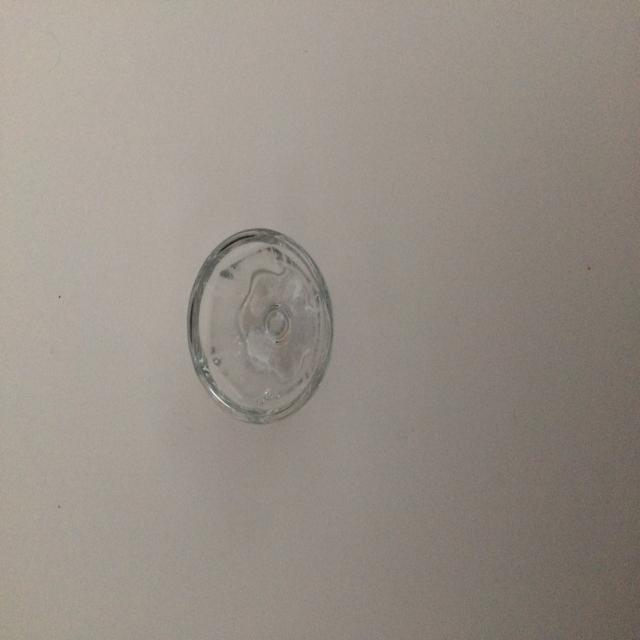Glass: (181, 206, 343, 443)
